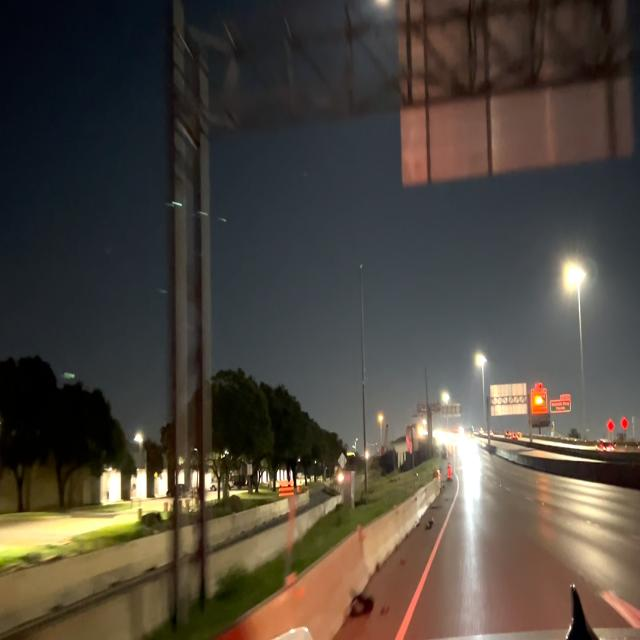back-of-sign: (390, 0, 640, 193), (487, 381, 530, 419), (441, 401, 464, 422)
